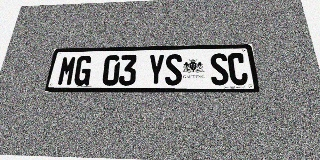0: (101, 55, 121, 86)
3: (118, 55, 137, 86)
C: (227, 53, 249, 85)
G: (73, 56, 93, 86)
M: (57, 56, 77, 86)
S: (209, 53, 230, 85), (165, 54, 182, 85)
Y: (147, 54, 165, 85)
